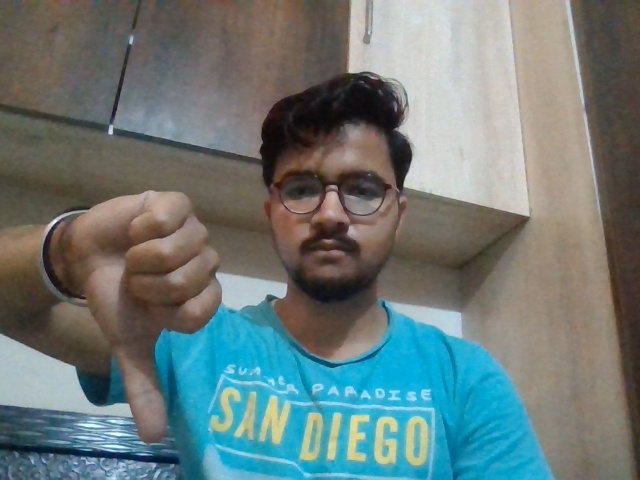no: (38, 158, 229, 434)
